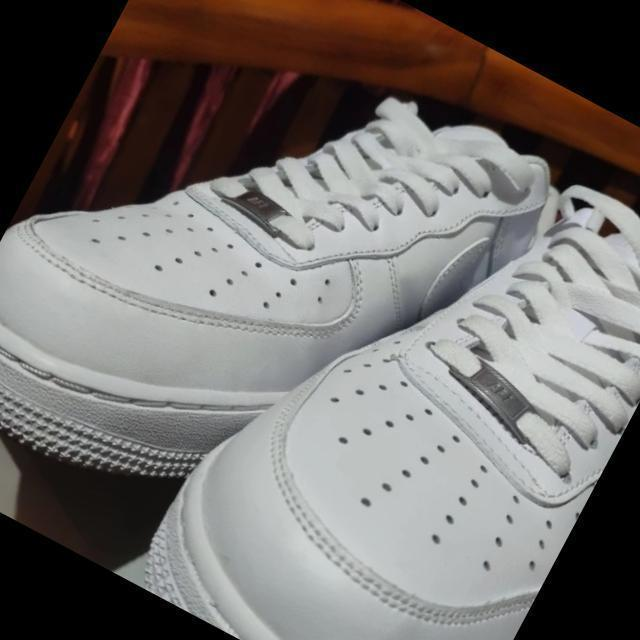nike original air force: (0, 0, 567, 610), (126, 94, 640, 640)
